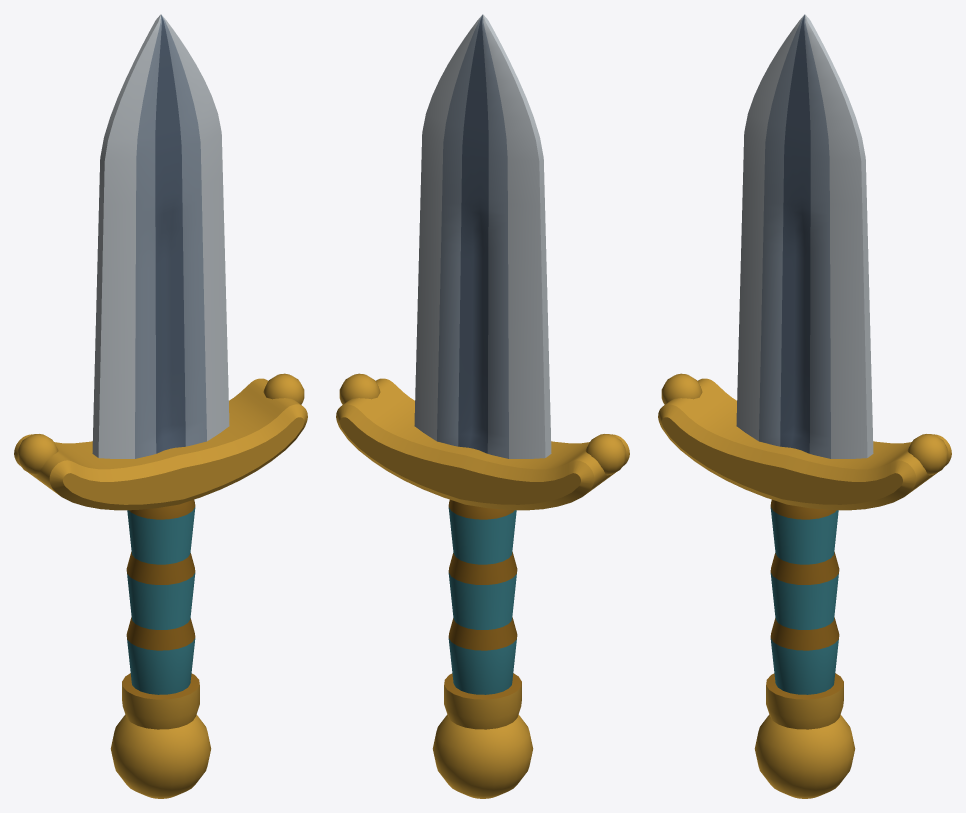
File: Dagger_17.glb
3 views of the same model, side by side, from view 1: azimuth 30°, elevation 25°; view 2: azimuth 150°, elevation 25°; view 3: azimuth 330°, elevation 25° (orthographic).
Visible parts, largest first — view 1: Dagger_17; view 2: Dagger_17; view 3: Dagger_17.
Part boxes in pixels (x1=…): Dagger_17: x1=14, y1=14, x2=307, y2=798; Dagger_17: x1=336, y1=14, x2=629, y2=798; Dagger_17: x1=658, y1=14, x2=951, y2=798.
Bounding box in the file's own units: 1.49 × 3.96 × 0.462.
